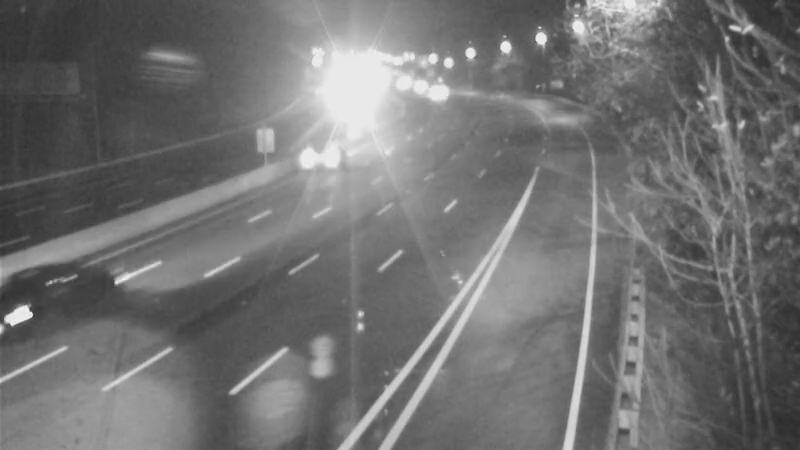vehicle: (1, 252, 104, 362), (291, 115, 371, 195), (415, 69, 465, 119)
